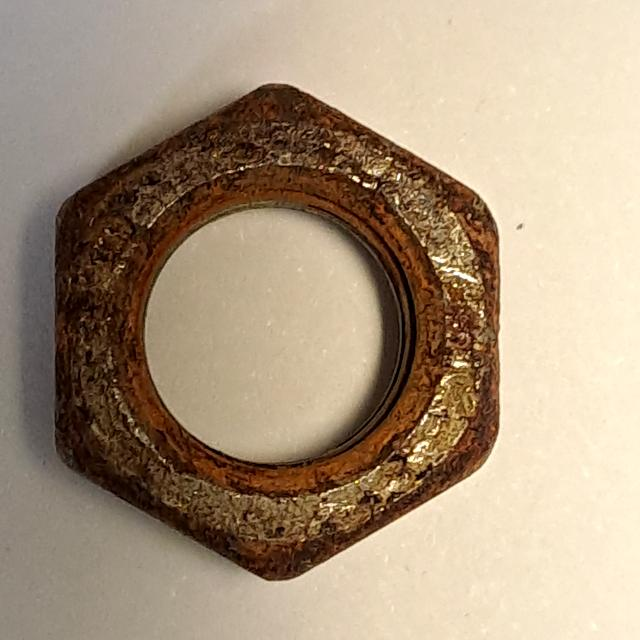Rust: (42, 70, 514, 596)
